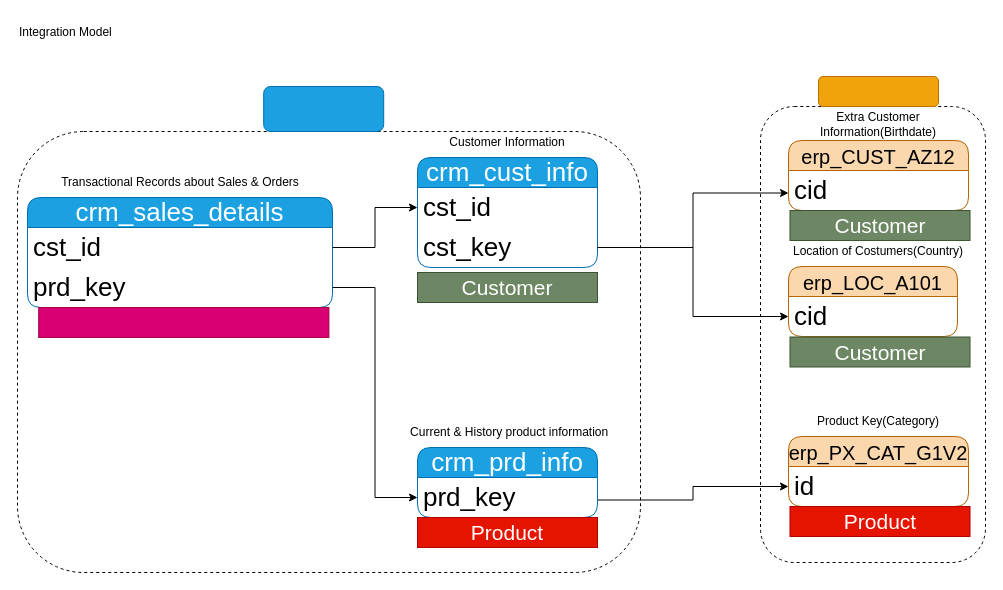
This 1003x590 diagram has some shape labels left out. The centre of each missing label's shape, as x and y in pixels:
"CRM" belongs at (323,109).
"ERP" belongs at (878,91).
"Sales" belongs at (183,322).
